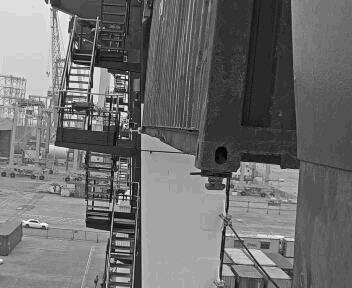twist_lock_1: (153, 162, 196, 194)
